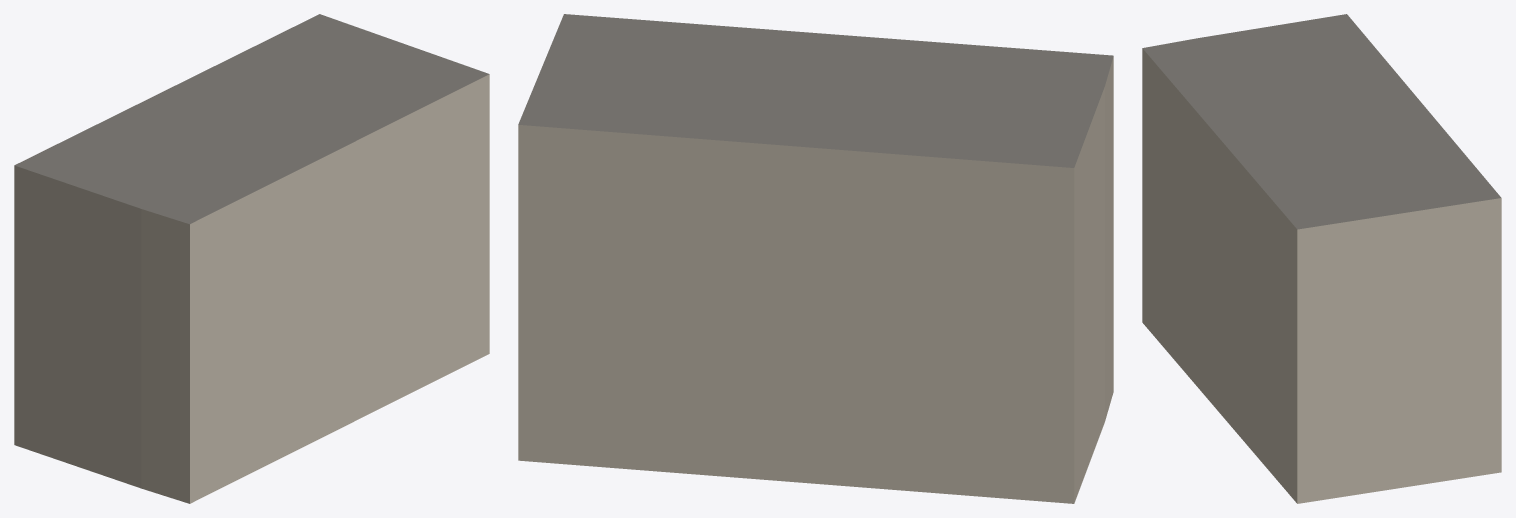
3 views of the same model, side by side, from view 1: azimuth 30°, elevation 25°; view 2: azimuth 150°, elevation 25°; view 3: azimuth 270°, elevation 25° (orthographic). The views are drawn at different scales.
Parts seen in each view (by area): view 1: HP-w1196823090; view 2: HP-w1196823090; view 3: HP-w1196823090.
Part boxes in pixels (x1,y1,x2,y2): HP-w1196823090: (14, 14, 489, 503); HP-w1196823090: (518, 14, 1113, 503); HP-w1196823090: (1142, 14, 1501, 503).
Bounding box in the file's own units: 30.32 × 18 × 21.35.
